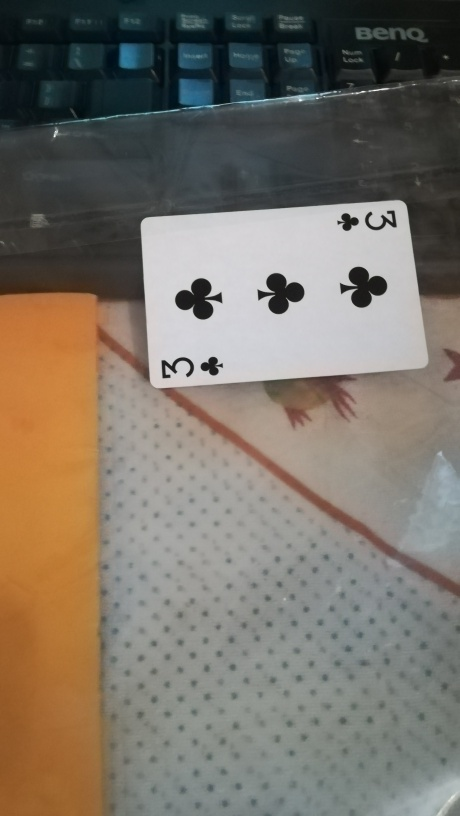mh 3: (139, 198, 433, 389)
